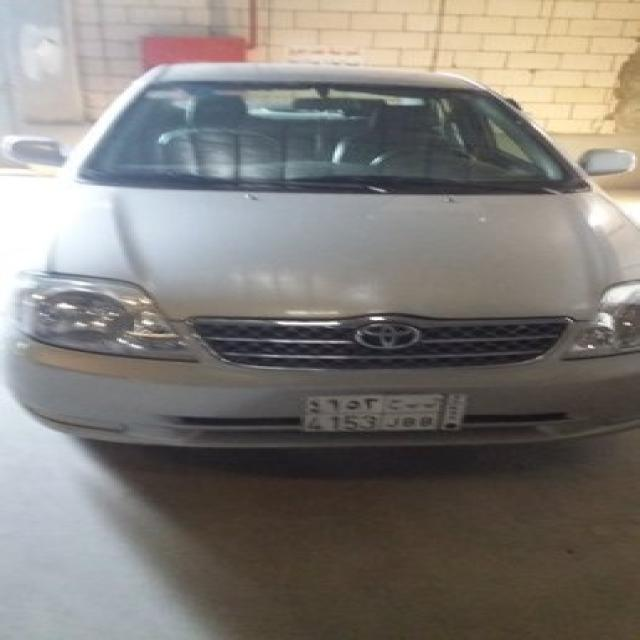license_plate: (300, 391, 474, 435)
